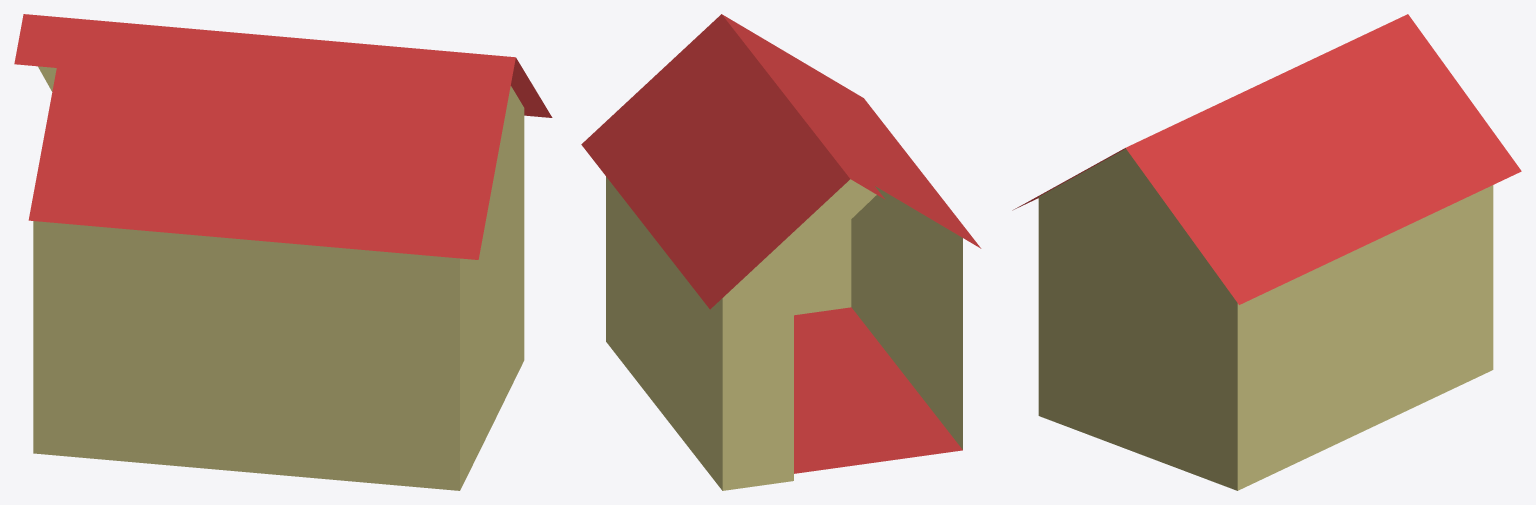
The picture shows the model from 3 angles, left to right: view 1: azimuth 30°, elevation 25°; view 2: azimuth 150°, elevation 25°; view 3: azimuth 270°, elevation 25°; orthographic projection. The views are drawn at different scales.
Size of the model in its own units: 18.35 by 19.01 by 12.8.
